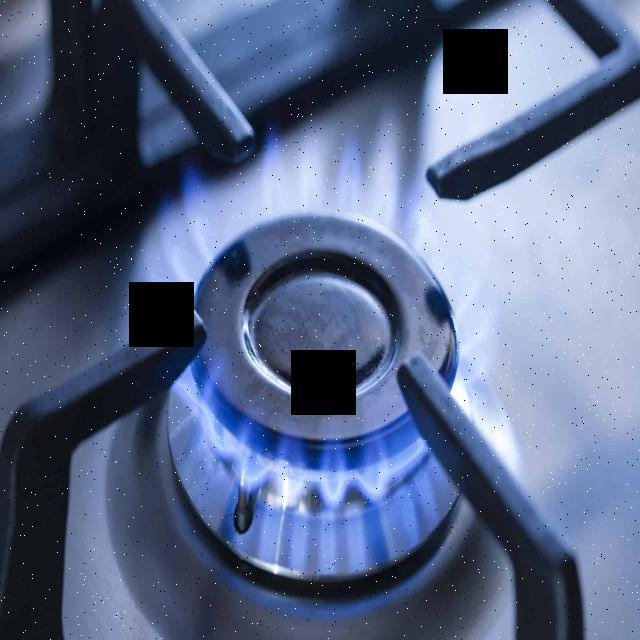Flame: (143, 118, 515, 514)
